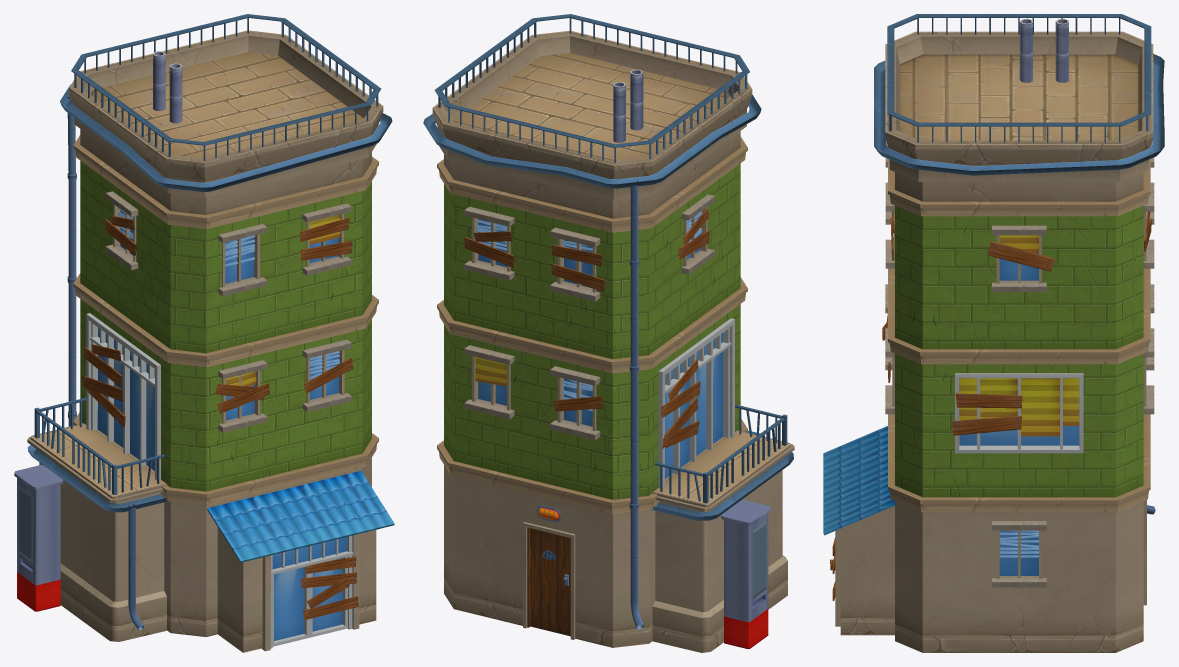
Rendered from Building_02_2_LOD1.fbx.
3 renders of one model, left to right at view 1: azimuth 30°, elevation 25°; view 2: azimuth 150°, elevation 25°; view 3: azimuth 270°, elevation 25°, orthographic. The views are drawn at different scales.
Parts seen in each view (by area): view 1: polySurface3663; view 2: polySurface3663; view 3: polySurface3663.
Boxes of the visible parts, x1,y1,x2,y2 form: polySurface3663: [14, 14, 394, 652]; polySurface3663: [423, 14, 794, 652]; polySurface3663: [823, 14, 1164, 652].
Size of the model in its own units: 736 by 1211 by 673.
